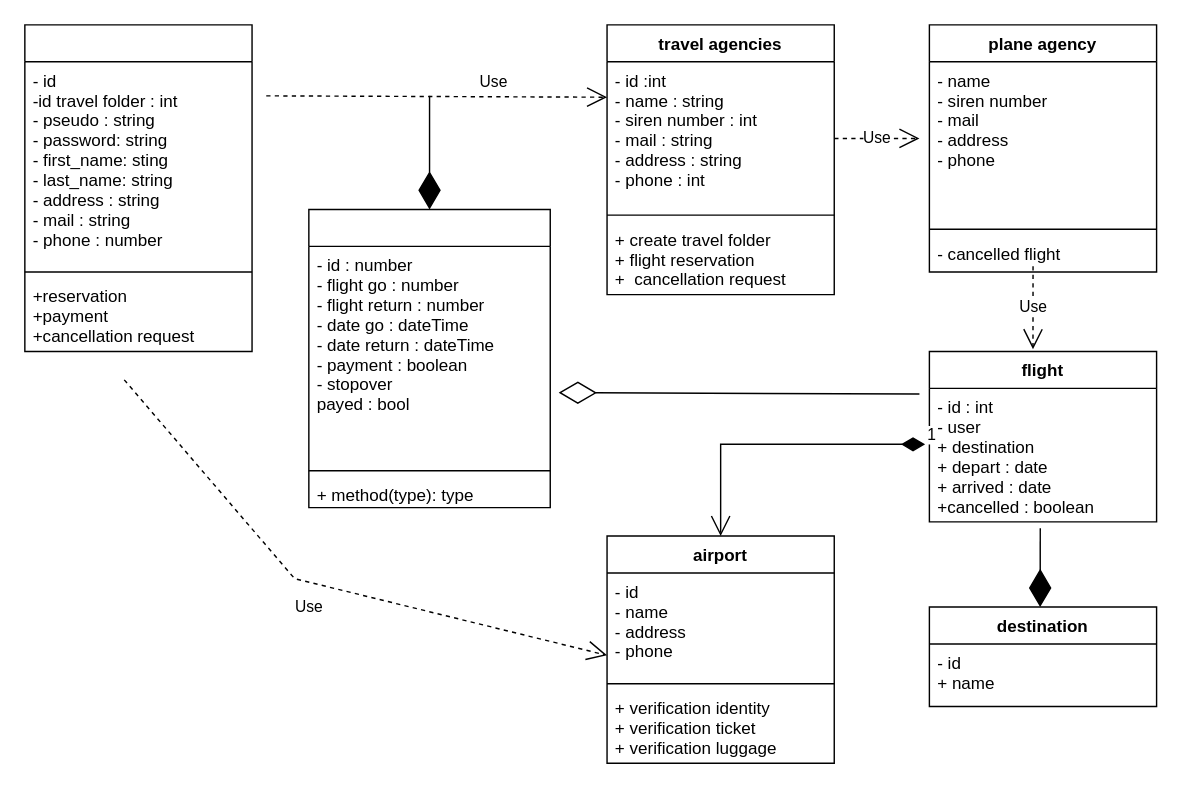
This 1181x792 diagram has some shape labels left out. Each missing label, with the box of its shape:
customers: (23, 23, 252, 351)
travel folder: (307, 208, 550, 508)
